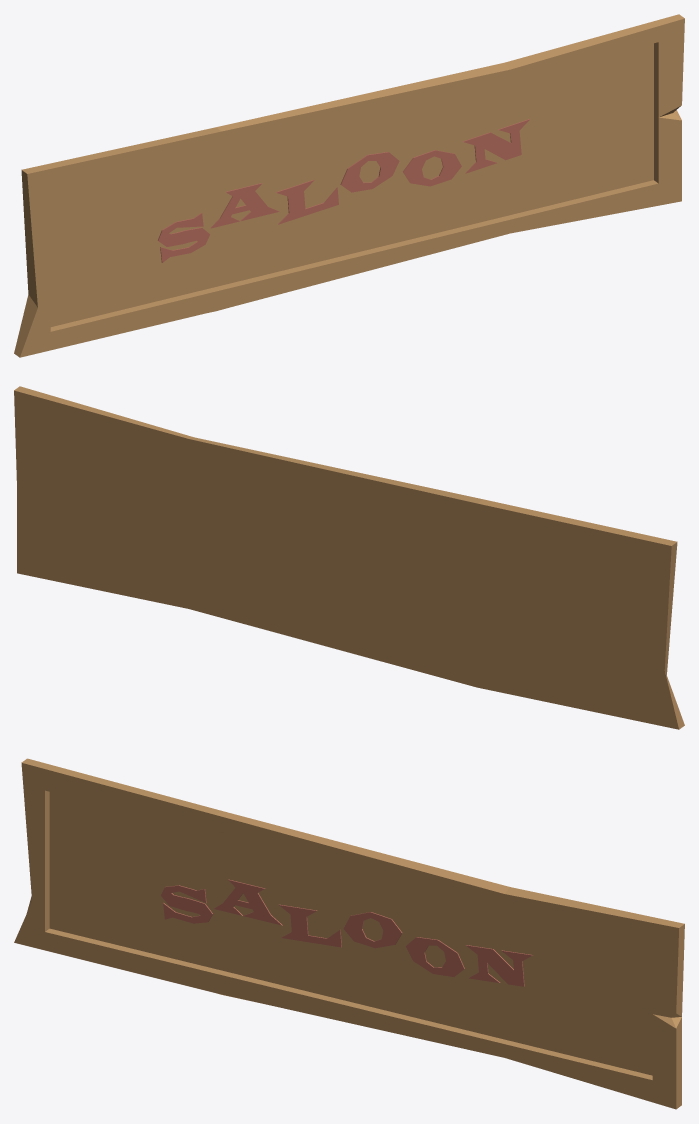
Rendered from Signboard_Saloon.fbx.
3 renders of one model, top to bottom at view 1: azimuth 30°, elevation 25°; view 2: azimuth 150°, elevation 25°; view 3: azimuth 330°, elevation 25°, orthographic.
Visible parts, largest first — view 1: Signboard_Saloon; view 2: Signboard_Saloon; view 3: Signboard_Saloon.
Boxes of the visible parts, bbox=[...] form: Signboard_Saloon: bbox=[14, 14, 684, 357]; Signboard_Saloon: bbox=[14, 386, 684, 729]; Signboard_Saloon: bbox=[14, 758, 684, 1109].
Bounding box in the file's own units: 463 × 7.02 × 126.
